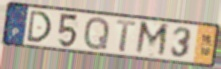3: (170, 26, 194, 59)
5: (56, 12, 81, 49)
D: (25, 9, 53, 44)
M: (134, 19, 171, 60)
Q: (82, 15, 111, 52)
T: (115, 19, 138, 54)
